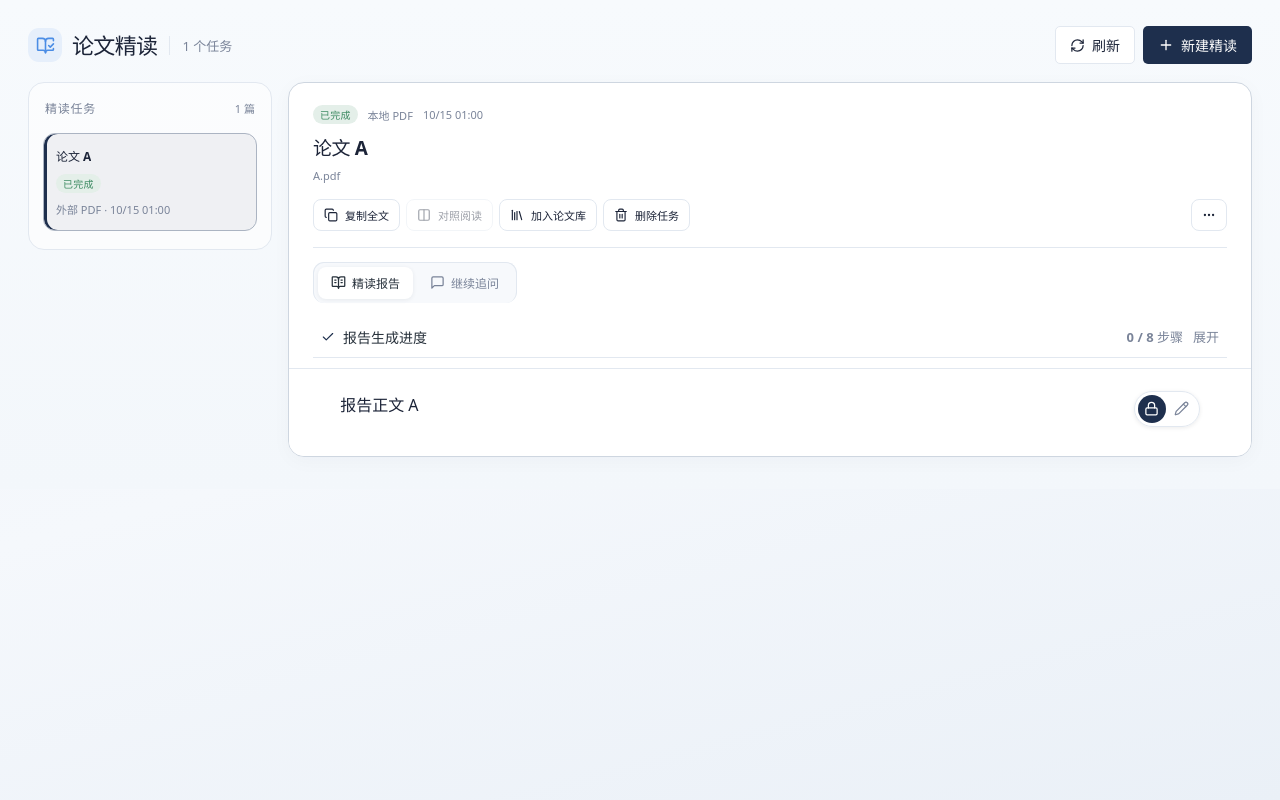
Test: 精读任务切换 › closes the report actions menu with Escape or an outside click
Expected: the text "报告正文 A" is shown, [340,394,419,416]
Click the button named "更多操作" at (1209, 214), box [1191,198,1227,230]
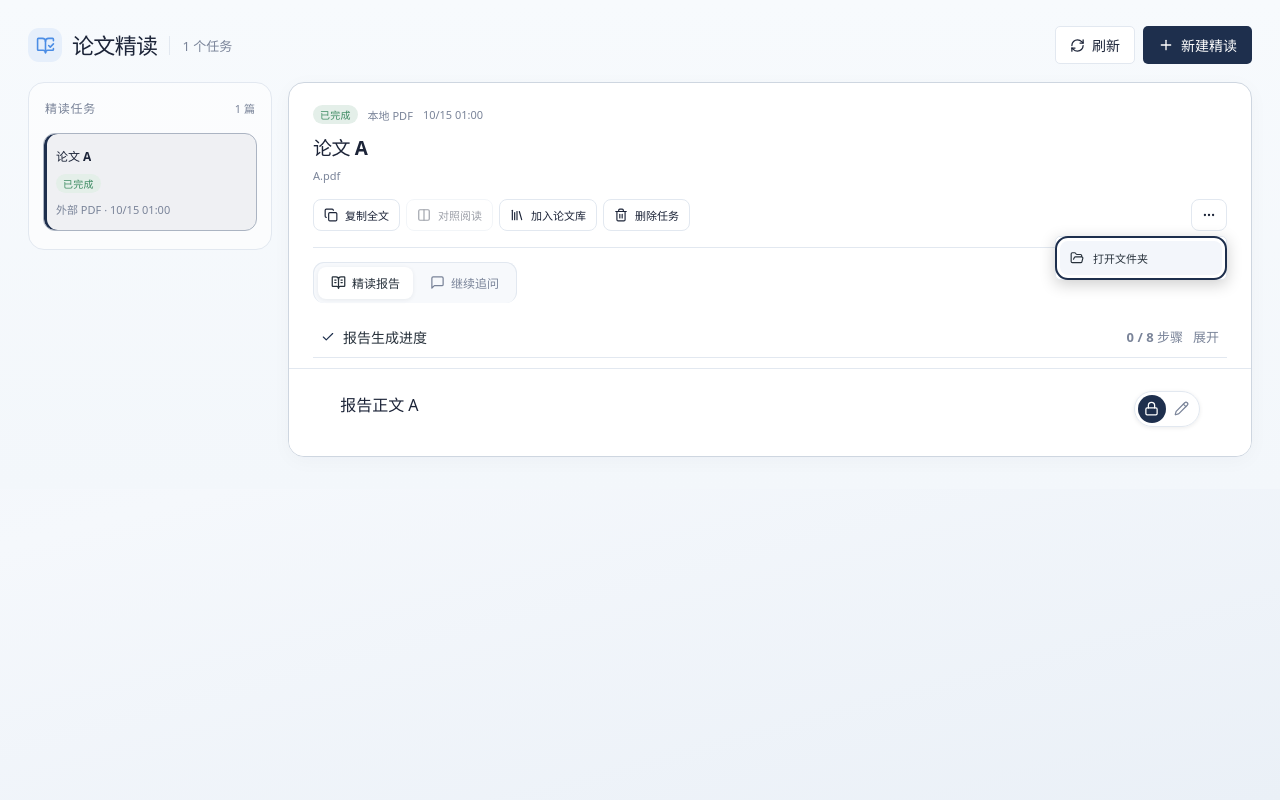
Press Escape
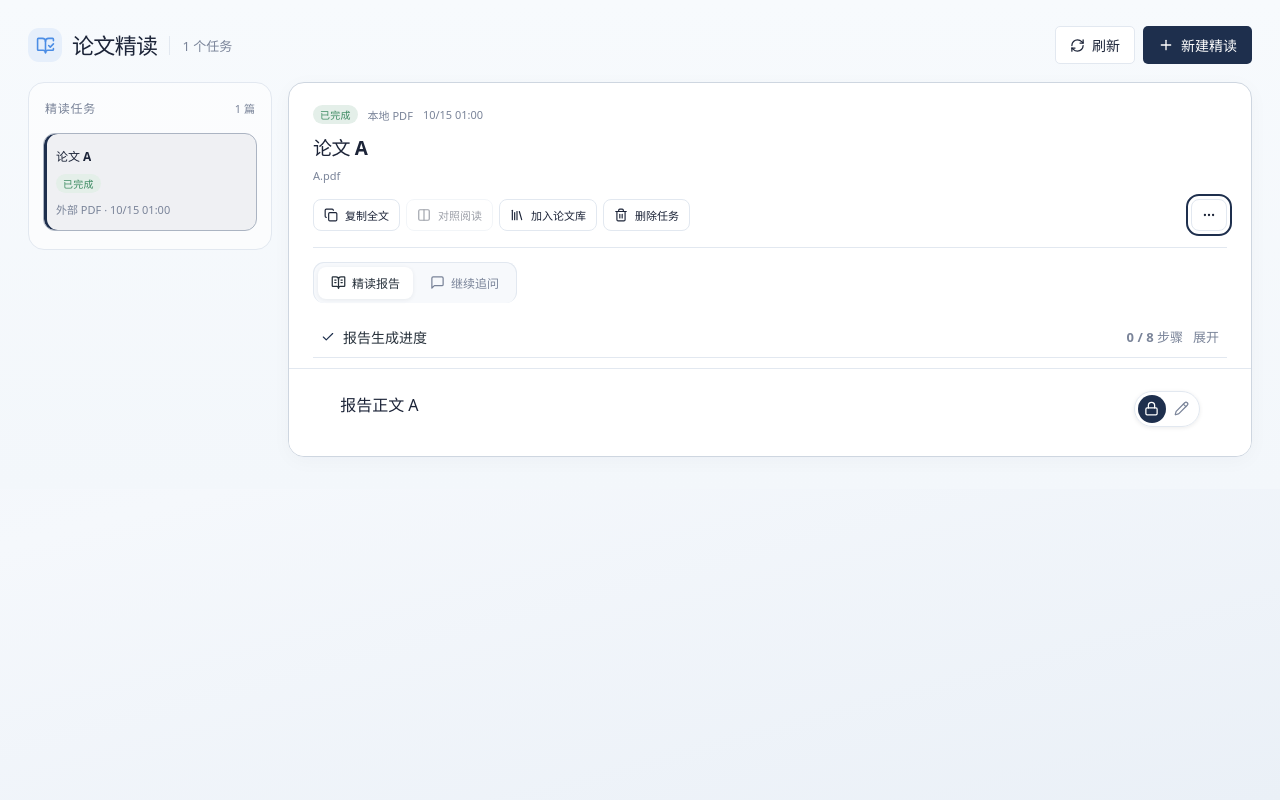
Now the menu is gone
Click the button named "更多操作" at (1209, 214), box [1191,198,1227,230]
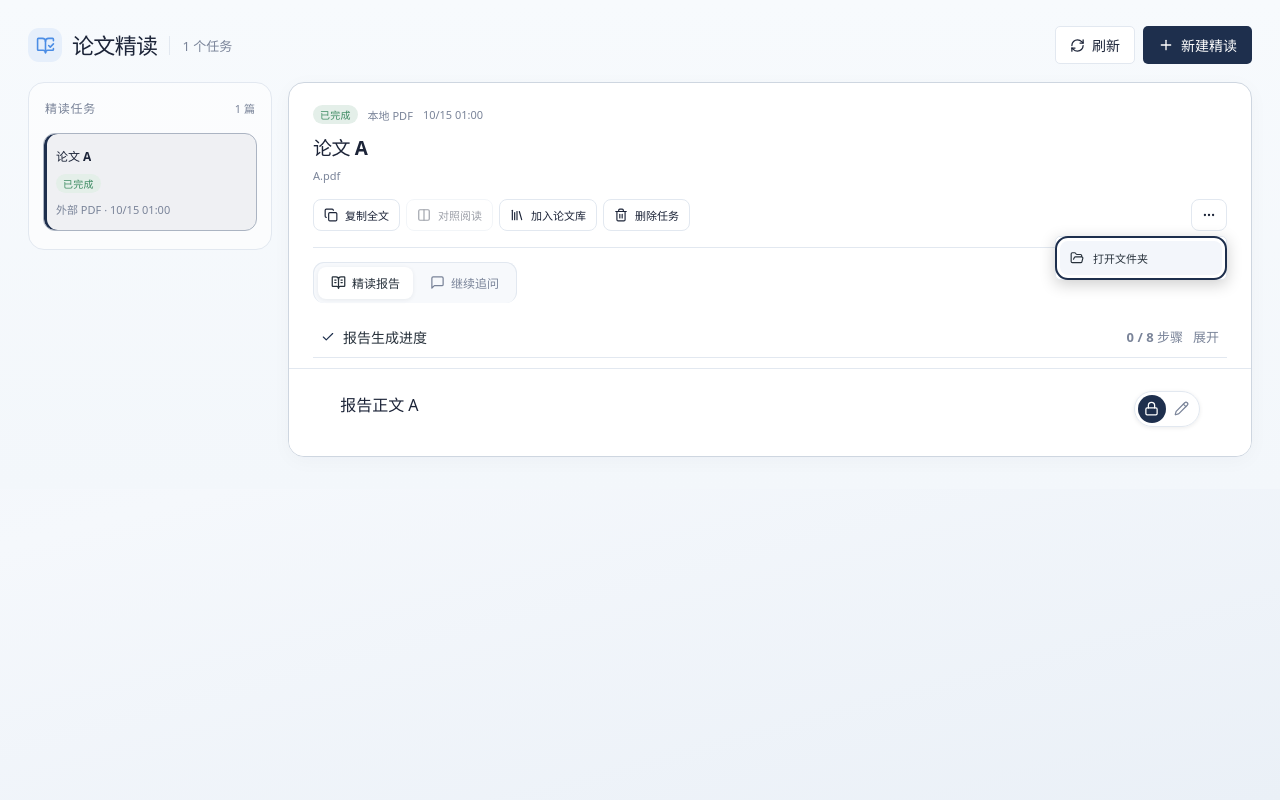
Press the mouse on the element that starts with "论文精读" at (640, 400), box [0,0,1279,799]
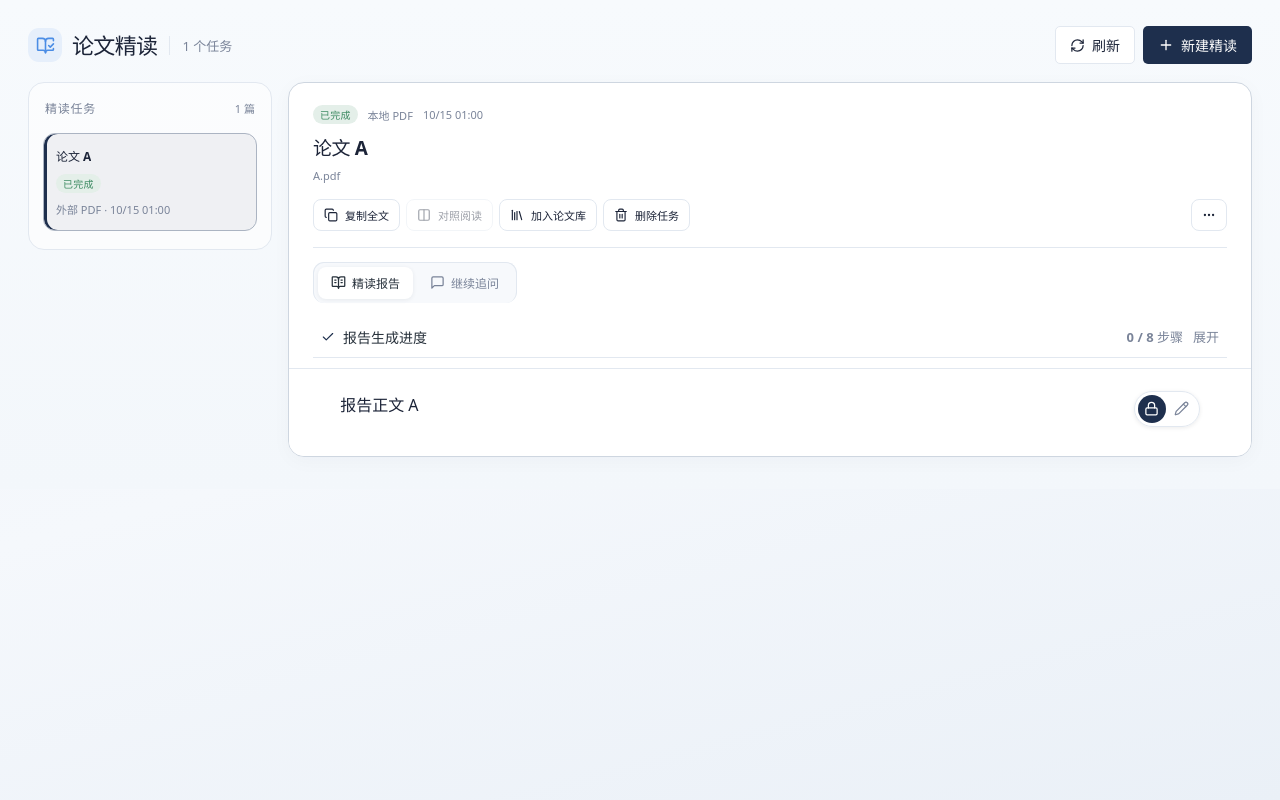
Now the menu is gone
